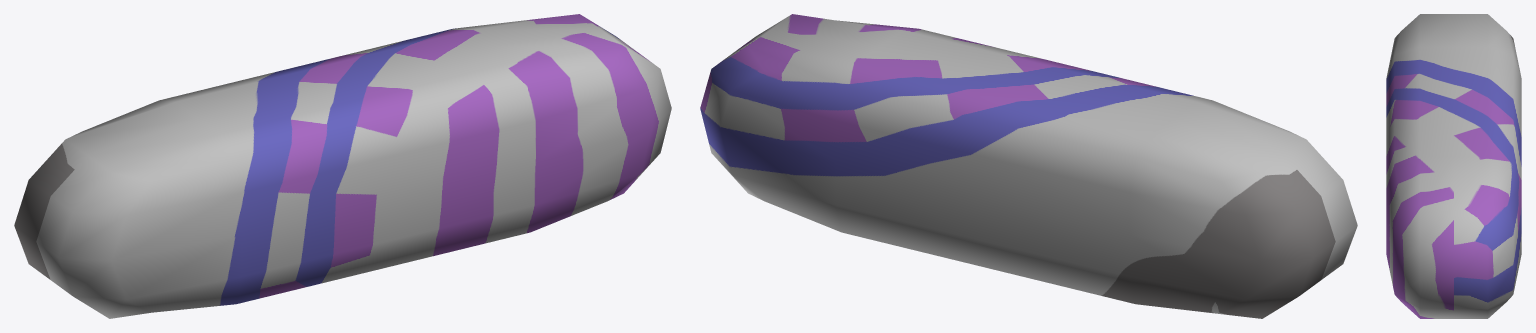
Rendered from Pildora.FBX.
3 renders of one model, left to right at view 1: azimuth 30°, elevation 25°; view 2: azimuth 150°, elevation 25°; view 3: azimuth 270°, elevation 25°, orthographic. The views are drawn at different scales.
Visible parts, largest first — view 1: Pildora; view 2: Pildora; view 3: Pildora.
Boxes of the visible parts, left/top/right/bottom form: Pildora: left=14, top=14, right=671, bottom=318; Pildora: left=700, top=14, right=1357, bottom=318; Pildora: left=1386, top=14, right=1521, bottom=318.
Size of the model in its own units: 31.31 by 8.2 by 7.82.
